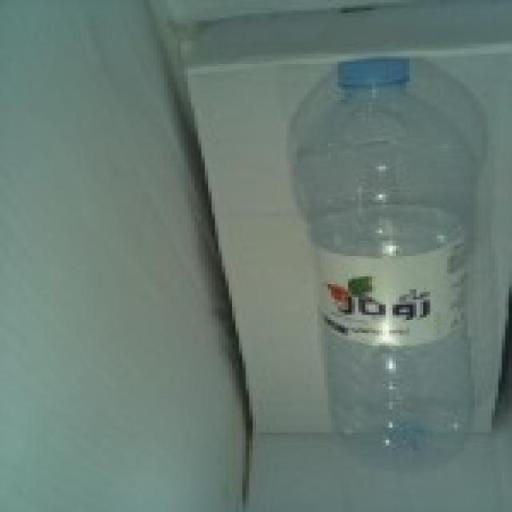plastic: (282, 55, 506, 480)
